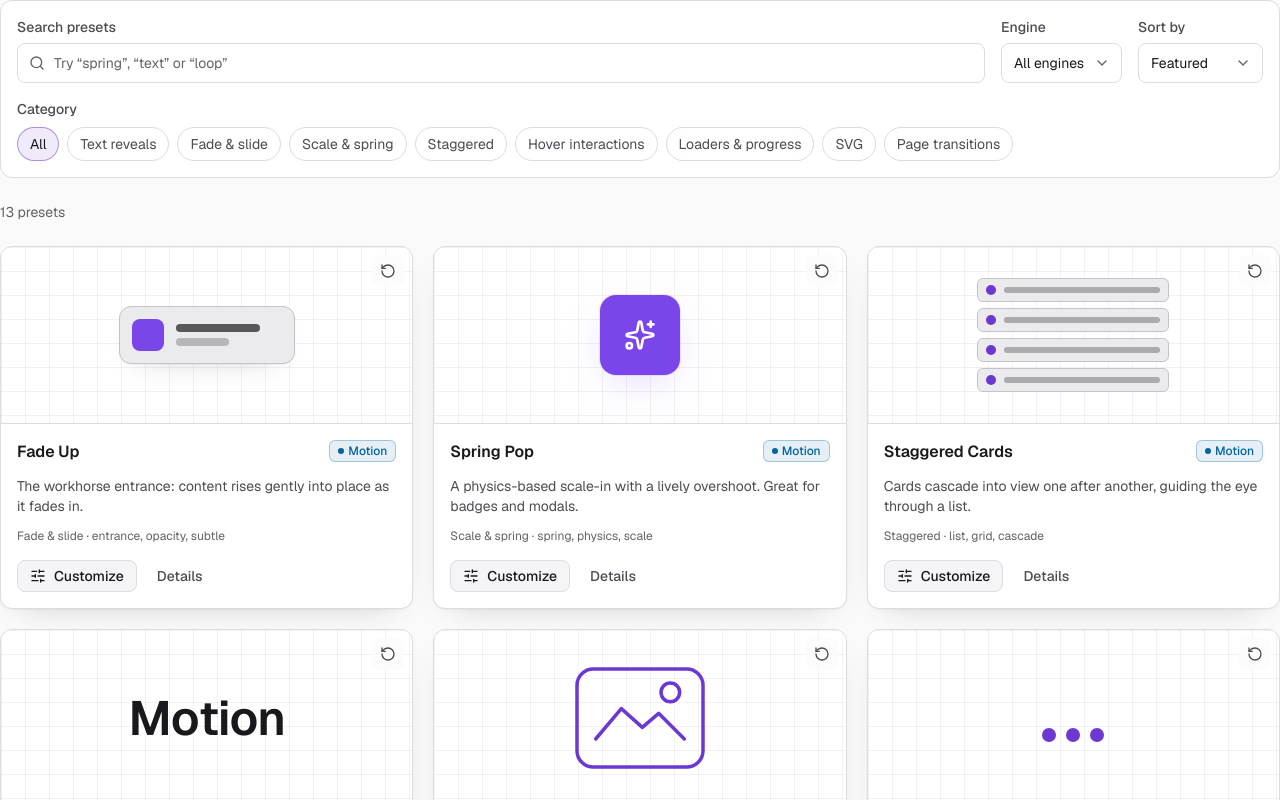
Test: GalleryBrowser › supports arrow-key navigation between categories
Click the radio button labelled "All": point(38, 144) [17, 127, 59, 161]
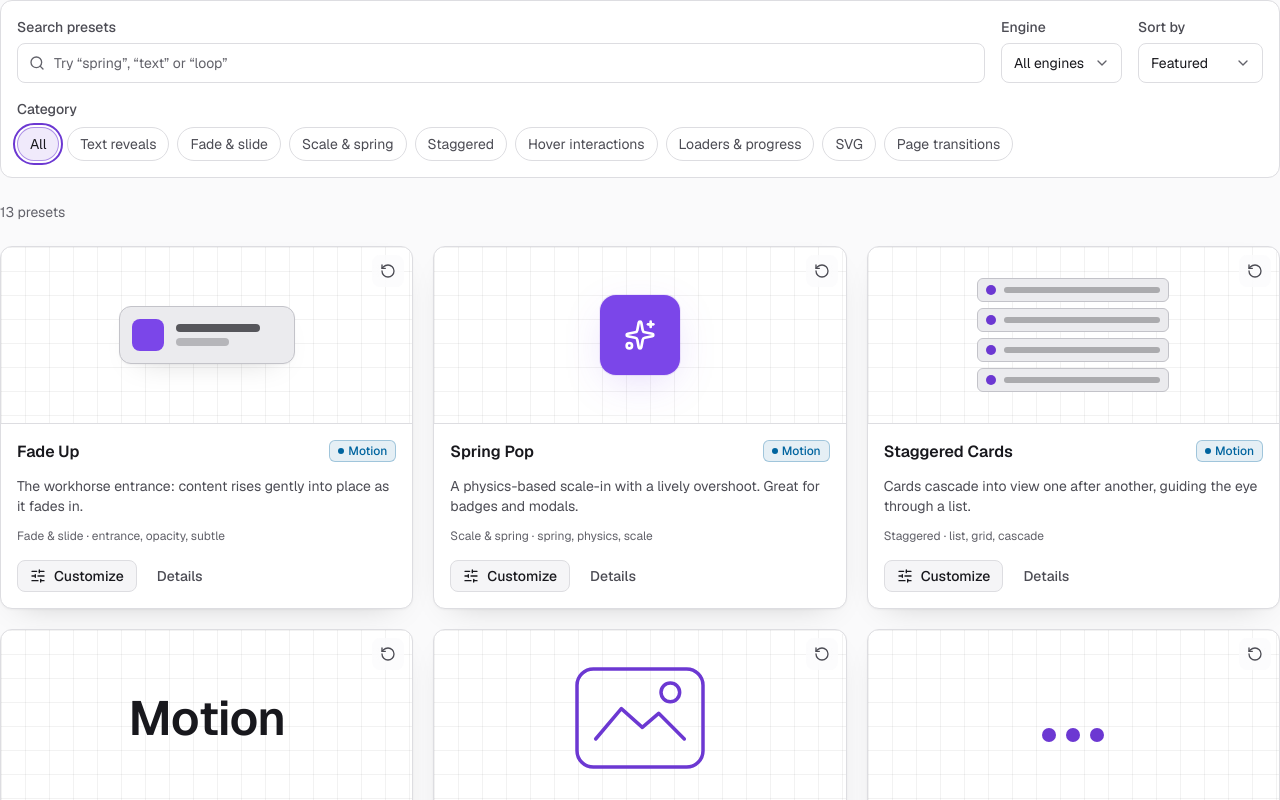
Press Arrowright
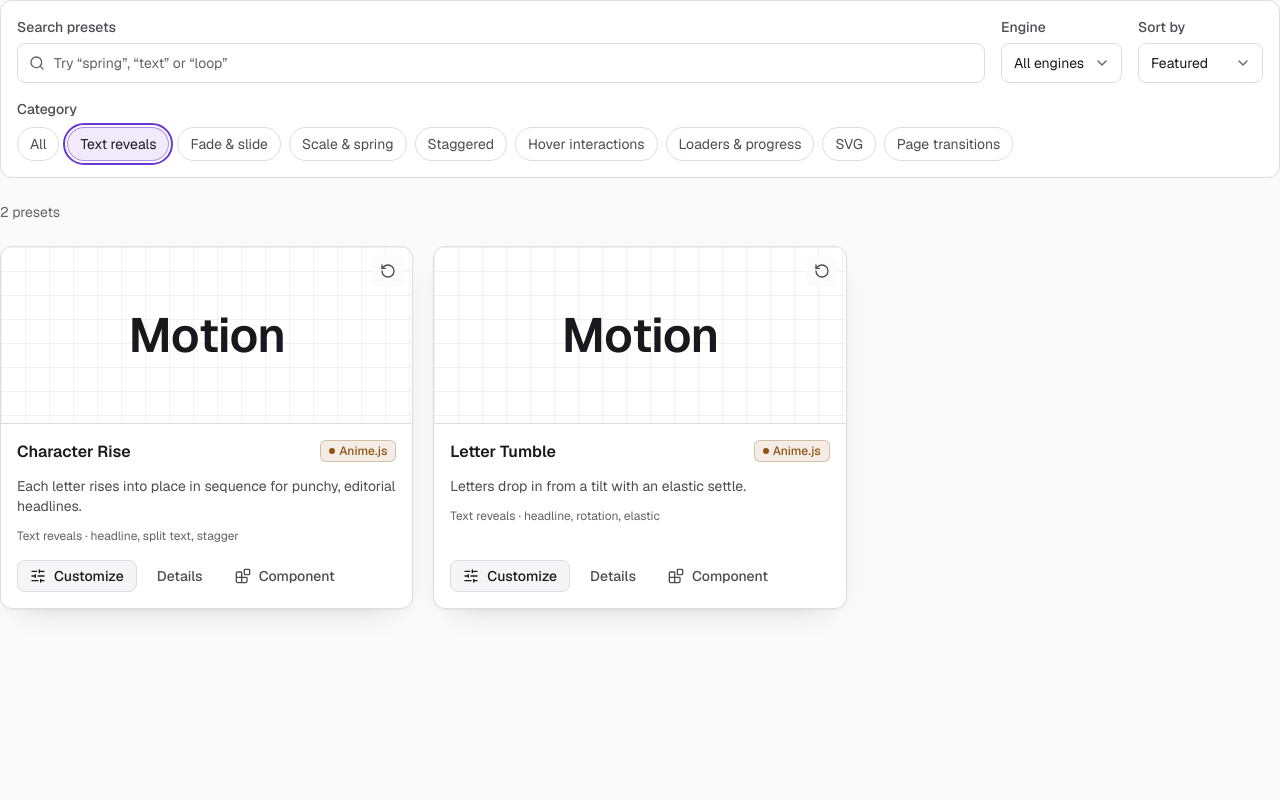
Check: the radio button labelled "Text reveals" is checked, box [67, 127, 169, 161]
